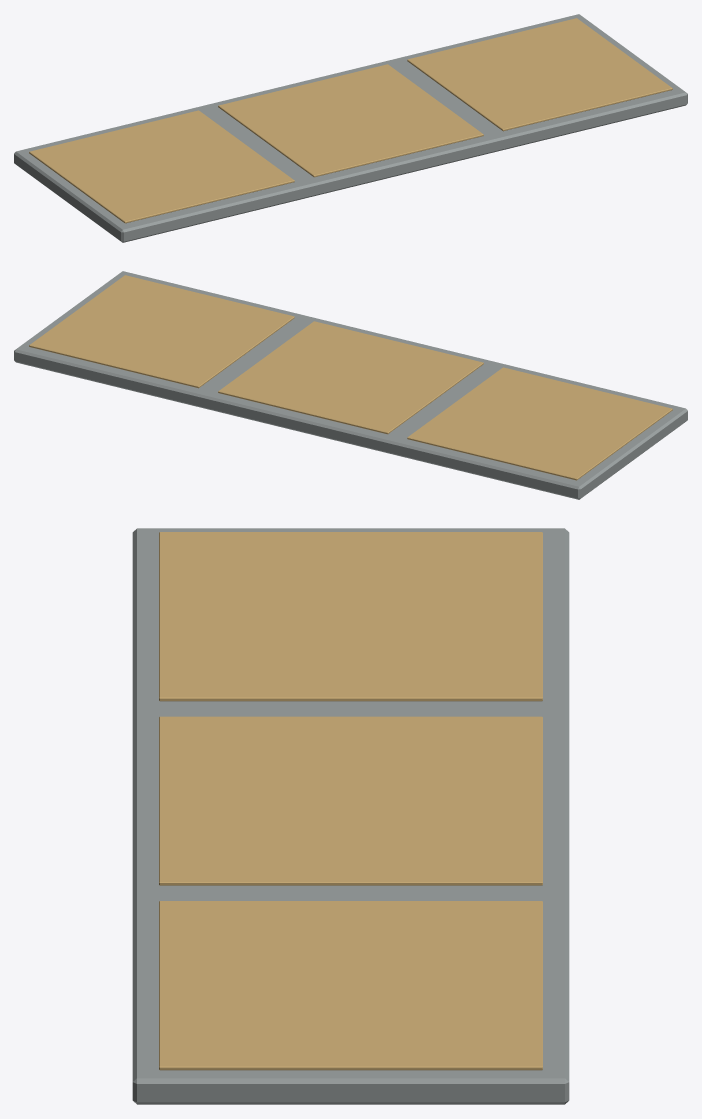
File: path_3.glb
The picture shows the model from 3 angles, top to bottom: view 1: azimuth 30°, elevation 25°; view 2: azimuth 150°, elevation 25°; view 3: azimuth 270°, elevation 25°; orthographic projection. The views are drawn at different scales.
Parts seen in each view (by area): view 1: path_3; view 2: path_3; view 3: path_3.
Part boxes in pixels (x1,y1,x2,y2): path_3: [14, 14, 687, 242]; path_3: [14, 271, 687, 499]; path_3: [132, 528, 569, 1104].
Bounding box in the file's own units: 4.5 × 0.1155 × 1.5.
